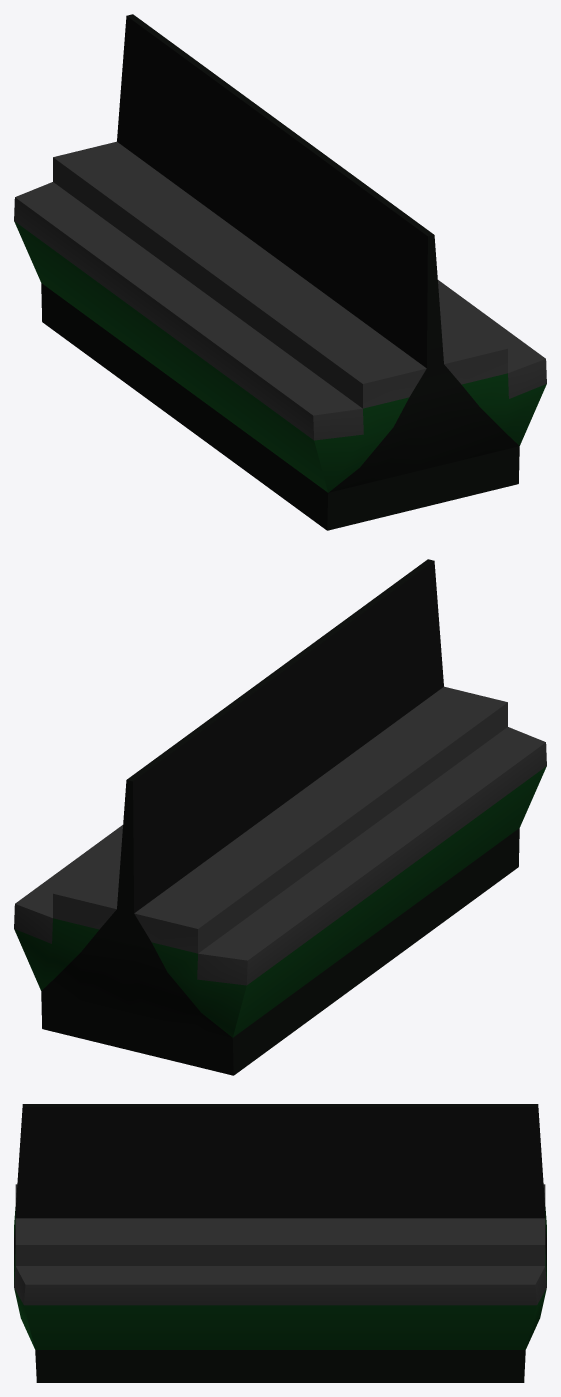
The model's file is estante_central.FBX.
3 renders of one model, top to bottom at view 1: azimuth 30°, elevation 25°; view 2: azimuth 150°, elevation 25°; view 3: azimuth 270°, elevation 25°, orthographic. The views are drawn at different scales.
Parts seen in each view (by area): view 1: Box002; view 2: Box002; view 3: Box002.
Boxes of the visible parts, bbox=[...] form: Box002: bbox=[14, 14, 546, 530]; Box002: bbox=[14, 559, 546, 1075]; Box002: bbox=[14, 1104, 546, 1382].
Size of the model in its own units: 12.09 by 13.78 by 28.05.
